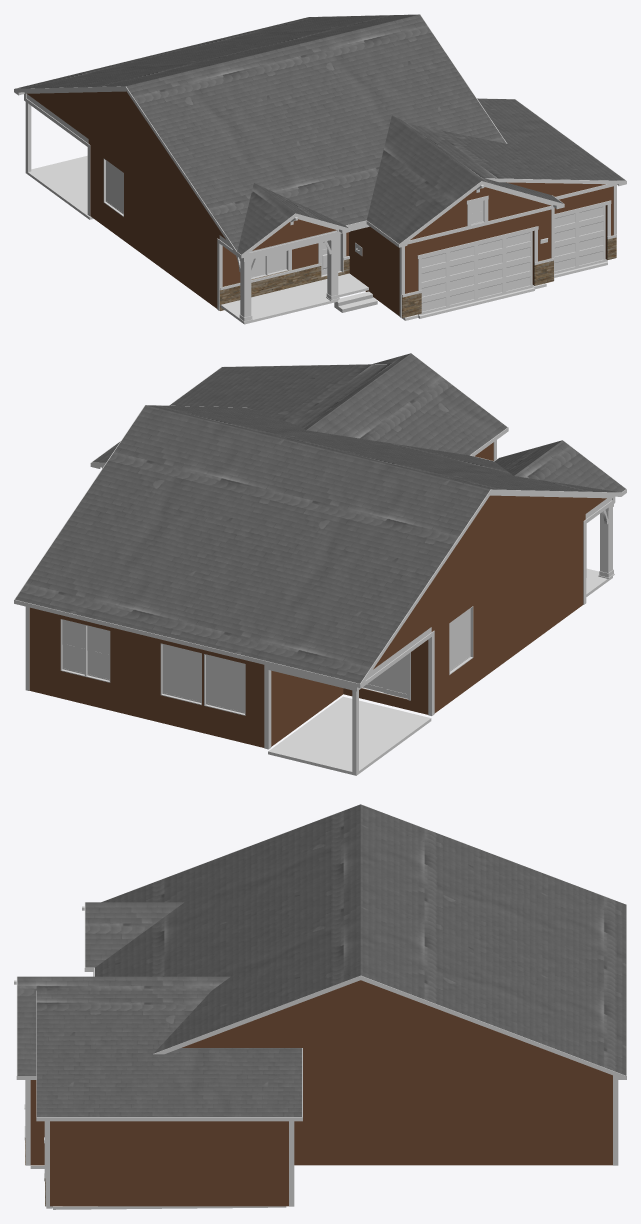
Rendered from 140-1526-dm-farmhouse.glb.
The picture shows the model from 3 angles, top to bottom: view 1: azimuth 30°, elevation 25°; view 2: azimuth 150°, elevation 25°; view 3: azimuth 270°, elevation 25°; orthographic projection. The views are drawn at different scales.
Visible parts, largest first — view 1: Basic Roof Wood Rafter 4" - Asphalt Shingle - Insulated_9d28, Basic Roof Wood Rafter 4" - Asphalt Shingle - Insulated_628d, Basic Roof Wood Rafter 4" - Asphalt Shingle - Insulated_bd8b, Basic Wall BSB Exterior - Stud_1.5" - Sheathing_0.5" - _666f, Craftsman - BSB Exterior - Overhead Garage Door - Clopa_68d3, Basic Wall BSB Exterior - Stud_5.5" - Sheathing_0.5" - _ee27, Basic Wall BSB Exterior - Stud_5.5" - Sheathing_0.5" - _47e0, Fascia Fascia-Flat 1x6 w/12" Soffit Bd [4721537], Basic Wall BSB Exterior - Stud_3.5" - Sheathing_0.5" - _ee2e, Basic Wall BSB Exterior - Stud_3.5" - Sheathing_0.5" - _519d, Craftsman - BSB Exterior - Overhead Garage Door - Clopa_7e68, Floor BSB Concrete Slab - 4" - Slope Option [4371678] (+23 smaller); view 2: Basic Roof Wood Rafter 4" - Asphalt Shingle - Insulated_9d28, Basic Wall BSB Exterior - Stud_5.5" - Sheathing_0.5" - _ff8a, Basic Roof Wood Rafter 4" - Asphalt Shingle - Insulated_628d, Basic Wall BSB Exterior - Stud_1.5" - Sheathing_0.5" - _666f, Basic Roof Wood Rafter 4" - Asphalt Shingle - Insulated_bd8b, Floor BSB Concrete Slab - 4" - Slope Option [4531315], Basic Wall BSB Exterior - Stud_5.5" - Sheathing_0.5" - _ee27, Basic Wall BSB Exterior - Stud_5.5" - Sheathing_0.5" - _47e0, Fascia Fascia-Flat 1x6 w/12" Soffit Bd [4721537], Basic Roof Wood Rafter 4" - Asphalt Shingle - Insulated_8441, Basic Wall BSB Exterior - Stud_5.5" - Sheathing_0.5" - _cf53, BSB Fixed 5060 FX w/ Sill [4252614] (+10 smaller); view 3: Basic Roof Wood Rafter 4" - Asphalt Shingle - Insulated_9d28, Basic Wall BSB Exterior - Stud_5.5" - Sheathing_0.5" - _f144, Basic Roof Wood Rafter 4" - Asphalt Shingle - Insulated_bd8b, Basic Wall BSB Exterior - Stud_1.5" - Sheathing_0.5" - _797f, Basic Wall BSB Exterior - Stud_3.5" - Sheathing_0.5" - _c112, Basic Wall BSB Exterior - Stud_3.5" - Sheathing_0.5" - _35ec, Fascia Fascia-Flat 1x6 w/12" Soffit Bd [4721537], Basic Roof Wood Rafter 4" - Asphalt Shingle - Insulated_628d, Basic Roof Wood Rafter 4" - Asphalt Shingle - Insulated_8441, Trim - Corner Boards1 Trim - Corner Boards [4409100], Basic Wall BSB Exterior - Stud_3.5" - Sheathing_0.5" - _9f0b, Floor BSB Concrete Slab - 4" - Slope Option [4259965].
Boxes of the visible parts, box(x1,y1,x2,y2) form: Basic Roof Wood Rafter 4" - Asphalt Shingle - Insulated_9d28: box(15, 14, 506, 251); Basic Roof Wood Rafter 4" - Asphalt Shingle - Insulated_628d: box(367, 115, 563, 243); Basic Roof Wood Rafter 4" - Asphalt Shingle - Insulated_bd8b: box(412, 98, 625, 180); Basic Wall BSB Exterior - Stud_1.5" - Sheathing_0.5" - _666f: box(27, 91, 225, 239); Craftsman - BSB Exterior - Overhead Garage Door - Clopa_68d3: box(418, 231, 533, 315); Basic Wall BSB Exterior - Stud_5.5" - Sheathing_0.5" - _ee27: box(88, 139, 161, 267); Basic Wall BSB Exterior - Stud_5.5" - Sheathing_0.5" - _47e0: box(161, 193, 208, 302); Fascia Fascia-Flat 1x6 w/12" Soffit Bd [4721537]: box(15, 14, 625, 257); Basic Wall BSB Exterior - Stud_3.5" - Sheathing_0.5" - _ee2e: box(405, 209, 551, 293); Basic Wall BSB Exterior - Stud_3.5" - Sheathing_0.5" - _519d: box(349, 226, 399, 315); Craftsman - BSB Exterior - Overhead Garage Door - Clopa_7e68: box(554, 205, 606, 273); Floor BSB Concrete Slab - 4" - Slope Option [4371678]: box(220, 273, 368, 324); Basic Roof Wood Rafter 4" - Asphalt Shingle - Insulated_9d28: box(15, 405, 618, 683); Basic Wall BSB Exterior - Stud_5.5" - Sheathing_0.5" - _ff8a: box(29, 608, 264, 747); Basic Roof Wood Rafter 4" - Asphalt Shingle - Insulated_628d: box(302, 353, 507, 455); Basic Wall BSB Exterior - Stud_1.5" - Sheathing_0.5" - _666f: box(373, 495, 606, 669); Basic Roof Wood Rafter 4" - Asphalt Shingle - Insulated_bd8b: box(92, 364, 387, 462); Floor BSB Concrete Slab - 4" - Slope Option [4531315]: box(268, 696, 431, 775); Basic Wall BSB Exterior - Stud_5.5" - Sheathing_0.5" - _ee27: box(426, 564, 517, 713); Basic Wall BSB Exterior - Stud_5.5" - Sheathing_0.5" - _47e0: box(517, 523, 573, 652); Fascia Fascia-Flat 1x6 w/12" Soffit Bd [4721537]: box(14, 353, 626, 687); Basic Roof Wood Rafter 4" - Asphalt Shingle - Insulated_8441: box(494, 440, 625, 492); Basic Wall BSB Exterior - Stud_5.5" - Sheathing_0.5" - _cf53: box(263, 665, 343, 746); BSB Fixed 5060 FX w/ Sill [4252614]: box(160, 643, 201, 705); Basic Roof Wood Rafter 4" - Asphalt Shingle - Insulated_9d28: box(95, 804, 626, 1075); Basic Wall BSB Exterior - Stud_5.5" - Sheathing_0.5" - _f144: box(294, 1075, 612, 1165); Basic Roof Wood Rafter 4" - Asphalt Shingle - Insulated_bd8b: box(36, 990, 302, 1116); Basic Wall BSB Exterior - Stud_1.5" - Sheathing_0.5" - _797f: box(182, 980, 610, 1074); Basic Wall BSB Exterior - Stud_3.5" - Sheathing_0.5" - _c112: box(148, 1121, 288, 1206); Basic Wall BSB Exterior - Stud_3.5" - Sheathing_0.5" - _35ec: box(50, 1121, 148, 1206); Fascia Fascia-Flat 1x6 w/12" Soffit Bd [4721537]: box(16, 804, 626, 1121); Basic Roof Wood Rafter 4" - Asphalt Shingle - Insulated_628d: box(17, 976, 230, 1075); Basic Roof Wood Rafter 4" - Asphalt Shingle - Insulated_8441: box(85, 902, 183, 967); Trim - Corner Boards1 Trim - Corner Boards [4409100]: box(25, 1075, 618, 1206); Basic Wall BSB Exterior - Stud_3.5" - Sheathing_0.5" - _9f0b: box(30, 1080, 44, 1165); Floor BSB Concrete Slab - 4" - Slope Option [4259965]: box(30, 1165, 286, 1209).
Size of the model in its own units: 15.79 by 6.93 by 19.22.
Materials: 3 (2 with a texture image).
